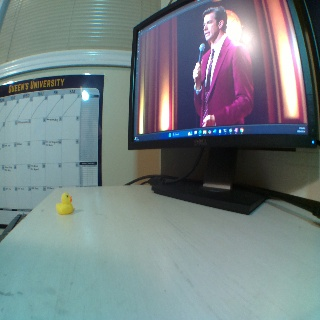duck_regular: (56, 193, 74, 216)
